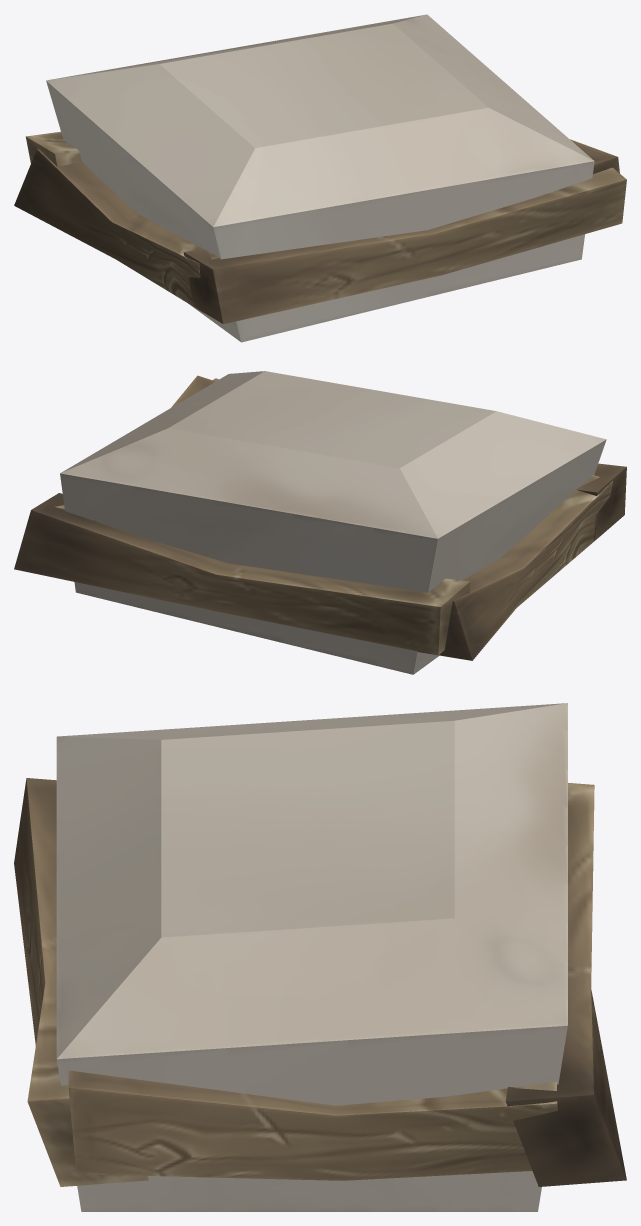
The model's file is Egypt_Village_Props_06.FBX.
The picture shows the model from 3 angles, top to bottom: view 1: azimuth 30°, elevation 25°; view 2: azimuth 150°, elevation 25°; view 3: azimuth 270°, elevation 25°; orthographic projection. The views are drawn at different scales.
Visible parts, largest first — view 1: Egypt_Village_Props_06; view 2: Egypt_Village_Props_06; view 3: Egypt_Village_Props_06.
Boxes of the visible parts, x1=… form: Egypt_Village_Props_06: x1=14, y1=14, x2=626, y2=342; Egypt_Village_Props_06: x1=14, y1=371, x2=626, y2=674; Egypt_Village_Props_06: x1=14, y1=703, x2=626, y2=1211.
Size of the model in its own units: 90.72 by 34.45 by 70.9.
